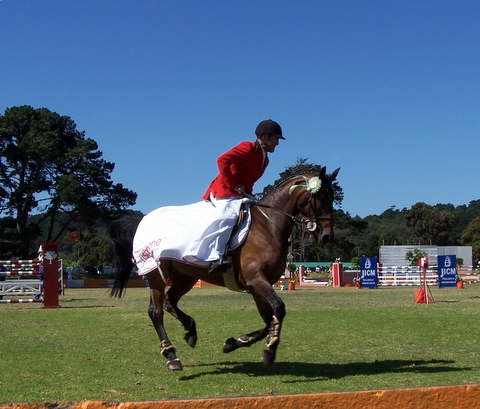person: (203, 119, 288, 277)
